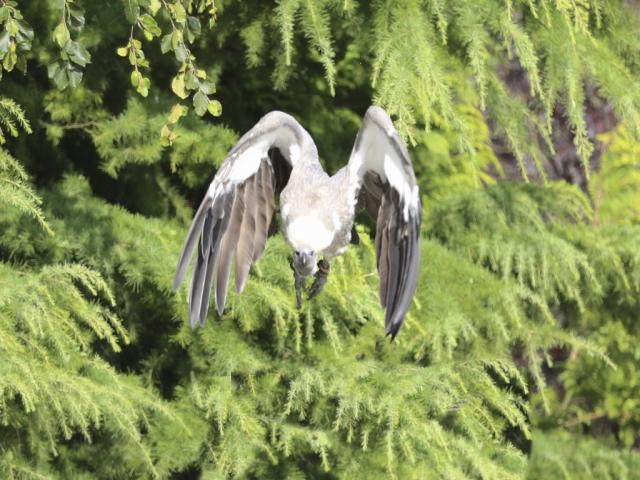Bird: (173, 106, 420, 332)
